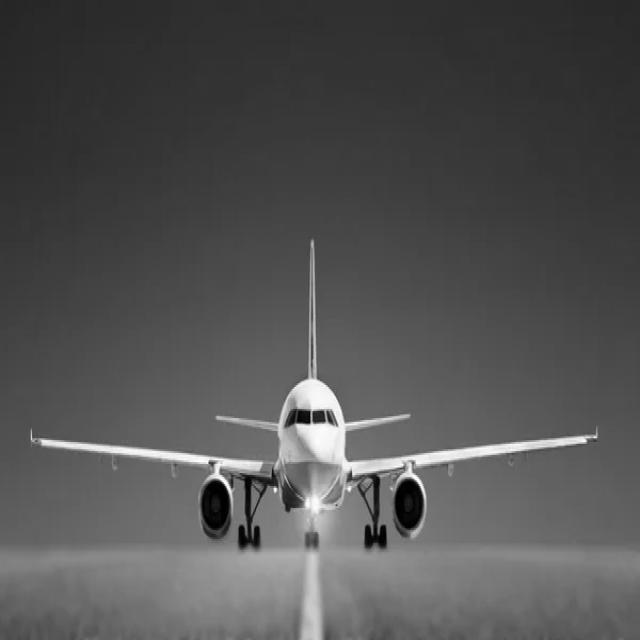Aircraft: (29, 298, 603, 557)
